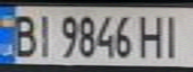4: (93, 11, 118, 60)
6: (112, 11, 139, 60)
8: (75, 11, 96, 58)
9: (57, 11, 81, 58)
B: (6, 10, 39, 58)
H: (136, 11, 166, 58)
I: (157, 10, 190, 58), (33, 10, 57, 58)
